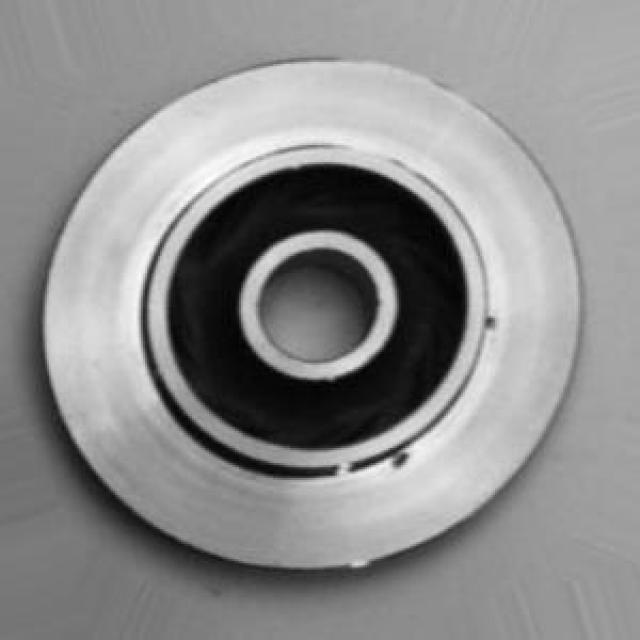Defect: (386, 442, 422, 467), (483, 307, 501, 342)
